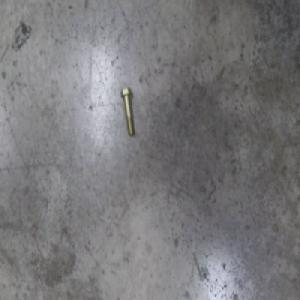Bolt: (120, 86, 133, 135)
